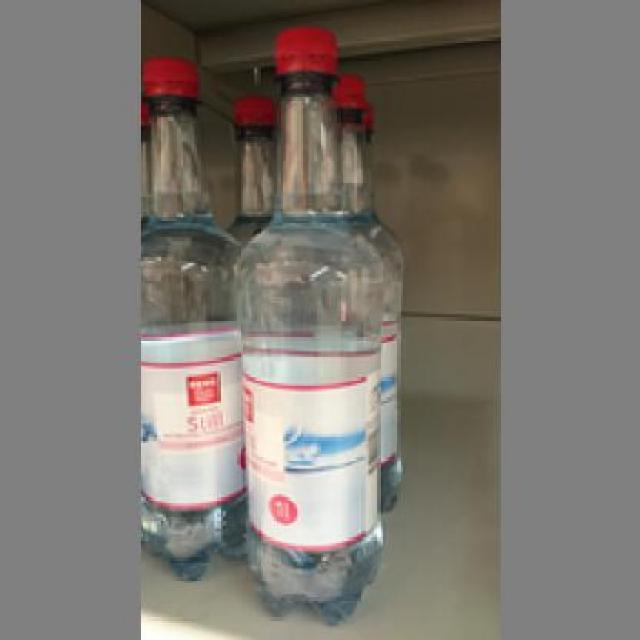Water: (234, 20, 383, 623), (140, 54, 246, 583)
